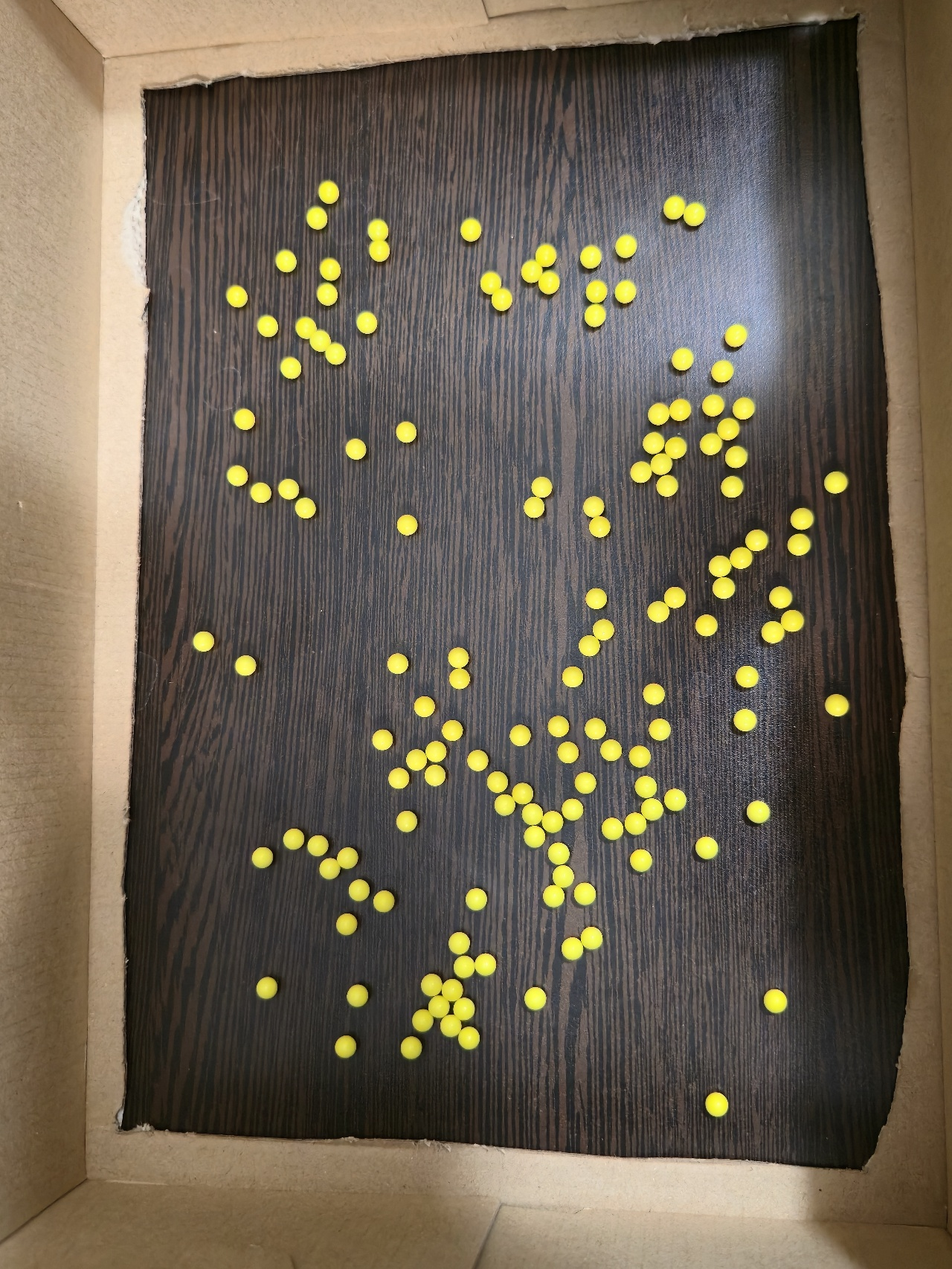yellow_bead: (301, 324, 327, 347), (769, 995, 782, 1008), (829, 477, 843, 489), (669, 202, 683, 214), (752, 806, 765, 818), (620, 240, 632, 253), (646, 803, 658, 815), (718, 582, 730, 594), (329, 347, 341, 359), (280, 255, 292, 267), (739, 715, 752, 726), (722, 423, 735, 434), (590, 309, 601, 322), (687, 210, 700, 221), (417, 1015, 428, 1027), (530, 993, 541, 1005), (567, 943, 578, 955), (548, 890, 559, 902), (558, 870, 569, 882), (553, 849, 565, 860), (701, 843, 713, 854), (669, 795, 681, 806), (640, 782, 652, 793), (742, 671, 754, 682), (727, 481, 739, 492), (655, 459, 667, 470), (706, 438, 717, 450), (739, 402, 750, 414), (709, 399, 720, 411), (718, 365, 729, 377), (678, 353, 689, 365), (361, 317, 372, 329), (620, 286, 631, 298), (322, 288, 332, 301), (373, 224, 383, 237), (426, 980, 437, 991), (459, 962, 470, 973), (479, 960, 490, 971), (454, 938, 465, 949), (586, 933, 597, 944), (636, 855, 647, 866), (529, 831, 540, 842), (607, 824, 618, 835), (547, 817, 558, 828), (527, 809, 538, 820), (492, 777, 503, 788), (655, 725, 666, 736), (768, 627, 779, 638), (736, 553, 747, 564), (794, 539, 805, 550), (731, 452, 742, 463), (649, 438, 660, 449), (285, 362, 296, 373), (731, 330, 742, 341), (579, 889, 591, 899), (634, 752, 646, 762), (605, 746, 617, 756), (831, 701, 843, 711), (701, 621, 713, 631), (787, 616, 799, 626), (775, 593, 787, 603), (751, 536, 763, 546), (674, 405, 686, 415), (497, 293, 506, 306), (446, 1021, 456, 1032), (459, 1004, 469, 1015), (434, 1001, 444, 1012), (352, 991, 363, 1001), (262, 983, 272, 994), (379, 896, 389, 907), (471, 895, 482, 905), (342, 854, 353, 864), (257, 853, 268, 863), (630, 819, 641, 829), (567, 805, 578, 815), (500, 800, 510, 811), (518, 788, 528, 799), (515, 731, 526, 741), (649, 690, 660, 700), (584, 641, 595, 651), (653, 607, 664, 617), (715, 562, 726, 572), (595, 522, 605, 533), (797, 514, 808, 524), (529, 502, 539, 513), (255, 488, 266, 498), (663, 481, 673, 492), (636, 467, 646, 478), (670, 444, 681, 454), (654, 410, 665, 420), (263, 321, 273, 332), (463, 1035, 475, 1044), (528, 265, 537, 277), (587, 251, 596, 263), (312, 213, 321, 225), (406, 1043, 416, 1053), (447, 984, 457, 994), (354, 886, 364, 896), (313, 841, 323, 851), (430, 771, 440, 781), (563, 748, 573, 758), (554, 722, 564, 732), (592, 594, 602, 604), (589, 503, 599, 513), (283, 484, 293, 494), (341, 1042, 350, 1053), (580, 779, 591, 788), (411, 756, 422, 765), (590, 725, 601, 734), (567, 673, 578, 682), (455, 673, 464, 684), (670, 594, 681, 603), (239, 414, 248, 425), (342, 920, 351, 930), (325, 865, 335, 874), (289, 835, 299, 844), (402, 817, 412, 826), (473, 756, 482, 766), (448, 726, 457, 736), (393, 660, 403, 669), (198, 637, 208, 646), (598, 626, 608, 635), (300, 503, 309, 513), (537, 483, 547, 492), (232, 471, 241, 481), (351, 445, 361, 454), (374, 247, 384, 256), (394, 774, 403, 783), (431, 748, 440, 757), (378, 736, 387, 745), (420, 703, 429, 712), (454, 654, 463, 663), (402, 521, 411, 530), (402, 428, 411, 437), (240, 662, 250, 670), (329, 266, 335, 275), (468, 222, 475, 228), (231, 295, 238, 300), (329, 189, 332, 198), (597, 286, 602, 290), (591, 291, 596, 294), (547, 275, 550, 280), (494, 278, 495, 280), (719, 1111, 720, 1111), (718, 1104, 718, 1105), (492, 280, 493, 280)
